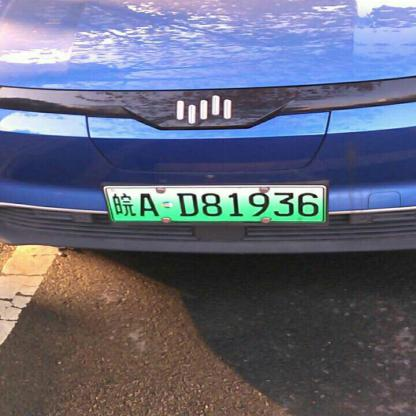lp: (107, 187, 324, 221)
